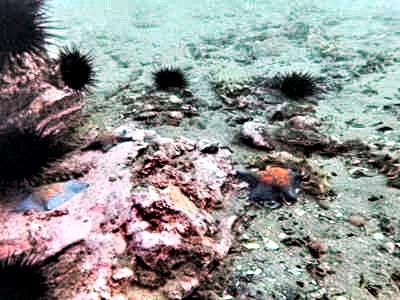urchin: (2, 118, 68, 191), (3, 1, 61, 67), (56, 41, 103, 98), (3, 247, 55, 296), (277, 67, 319, 102), (153, 63, 189, 93)
